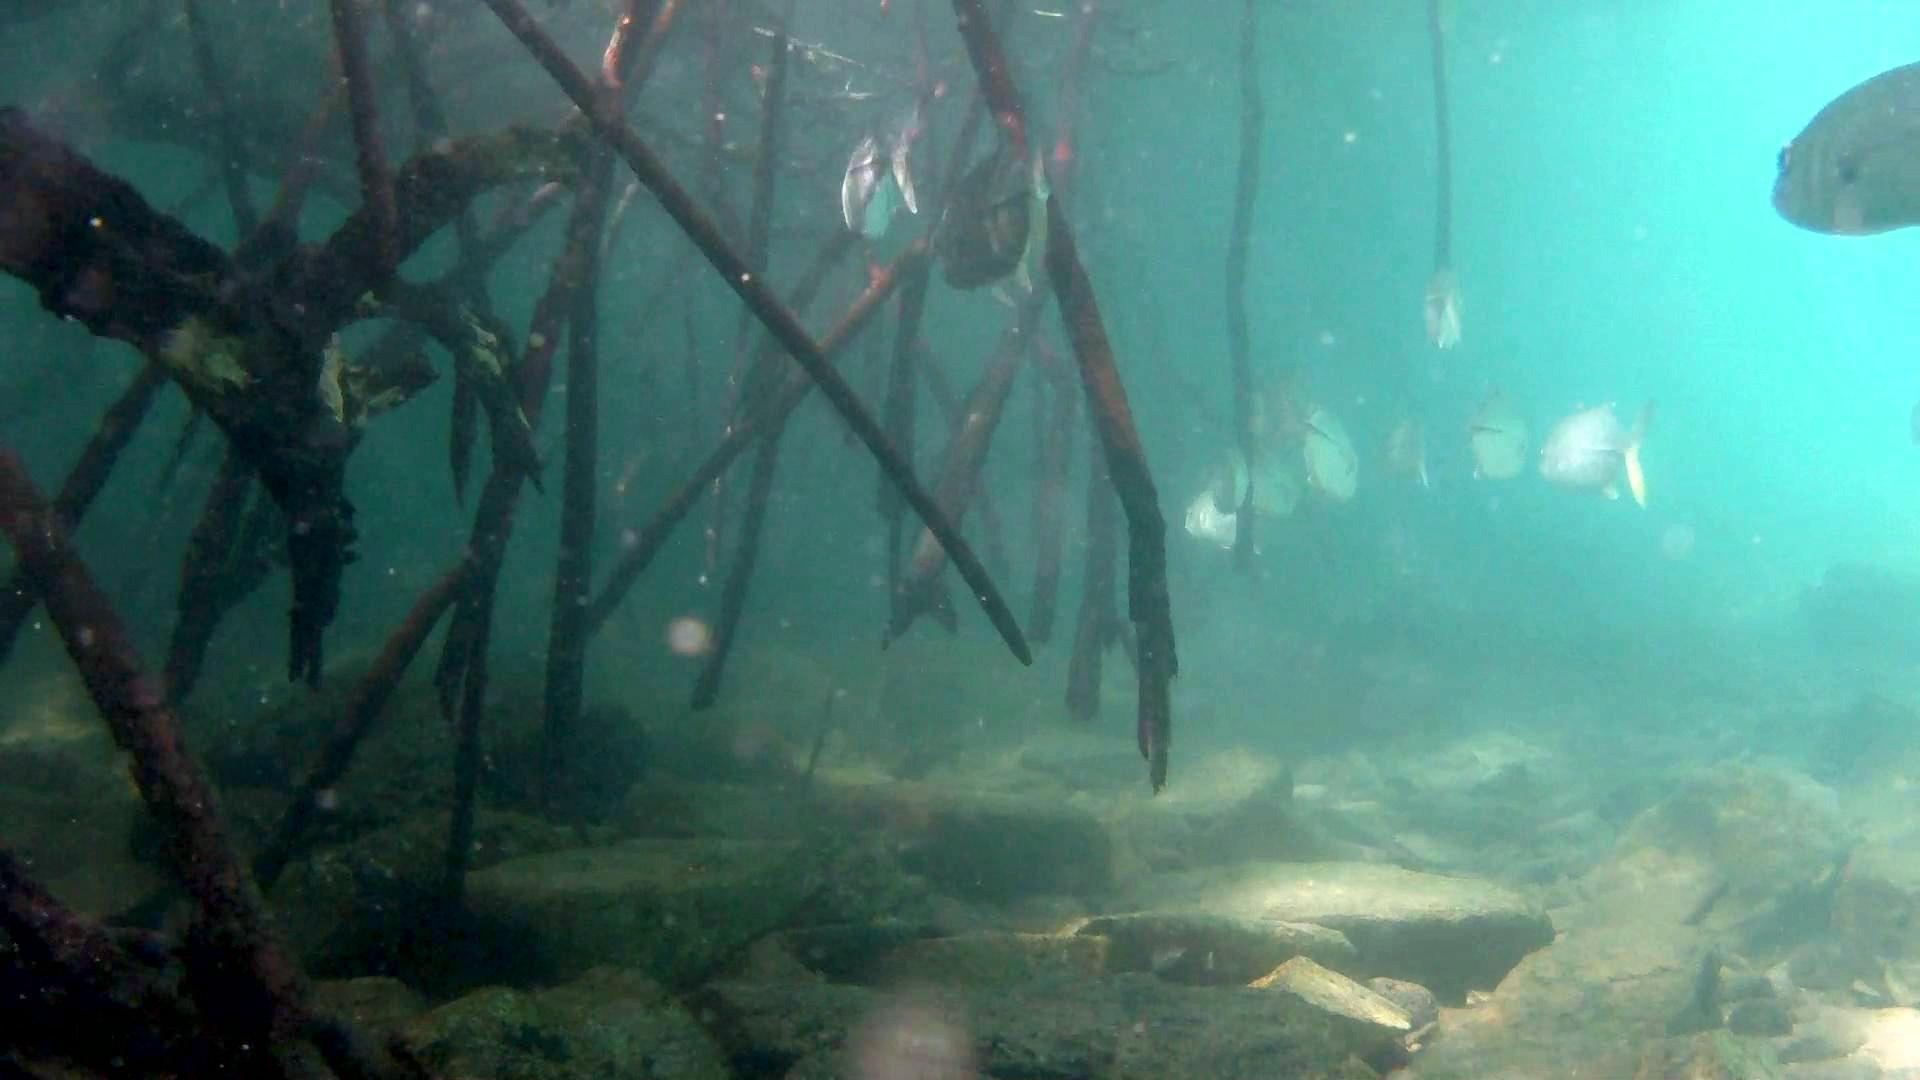caranx: (1756, 54, 1920, 244), (935, 117, 1058, 311)
